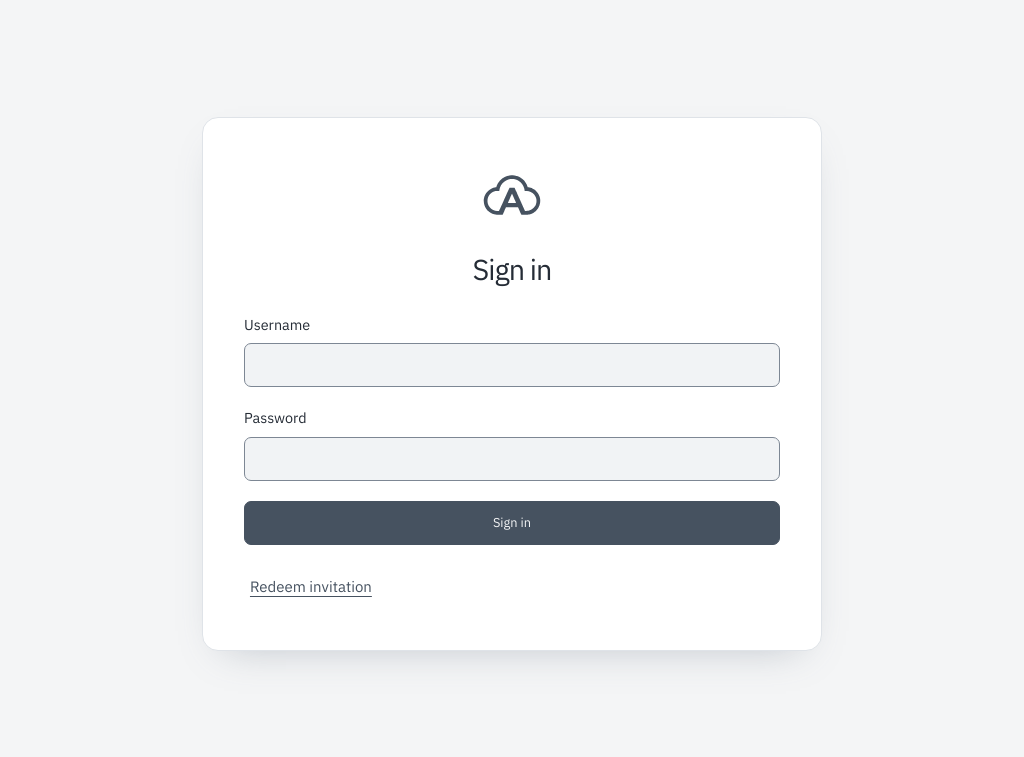
sign-in preserves the requested System route #system/vitals
This screenshot has width=1024, height=757.
Expected: the heading "Sign in" is shown, x1=473 y1=250 x2=551 y2=288
Type "ark" into the field labelled "Username" at {"x": 512, "y": 365}, box x1=244 y1=343 x2=780 y2=387
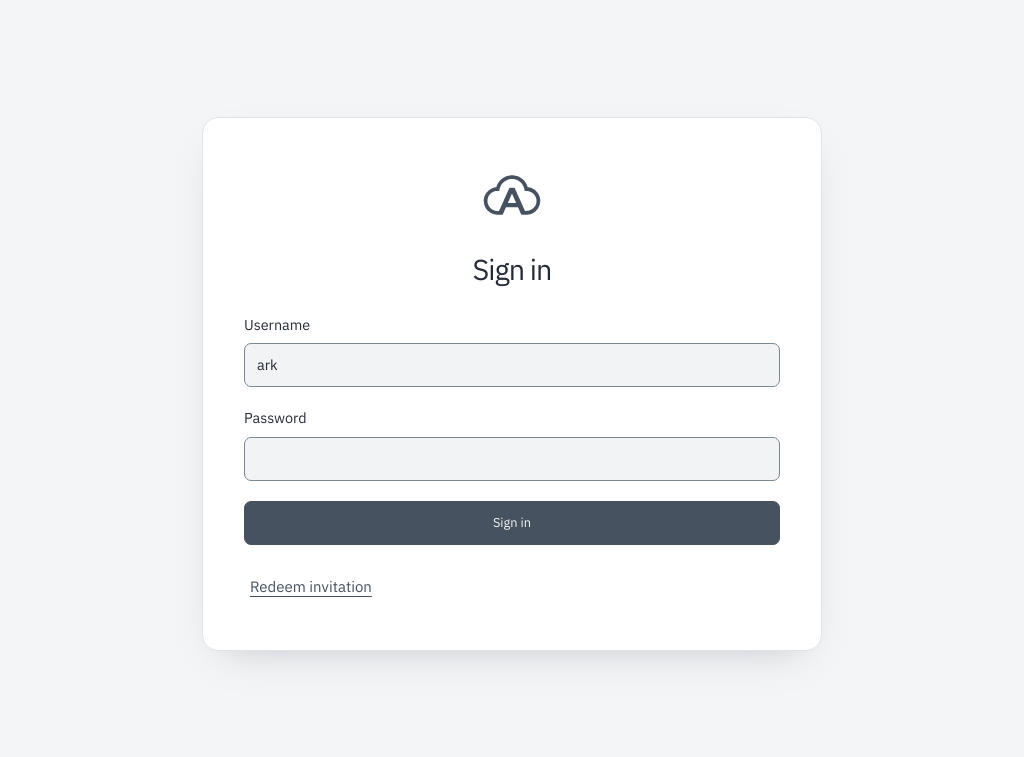
Type "test-password" into the password field labelled "Password" at {"x": 512, "y": 459}, box x1=244 y1=437 x2=780 y2=481
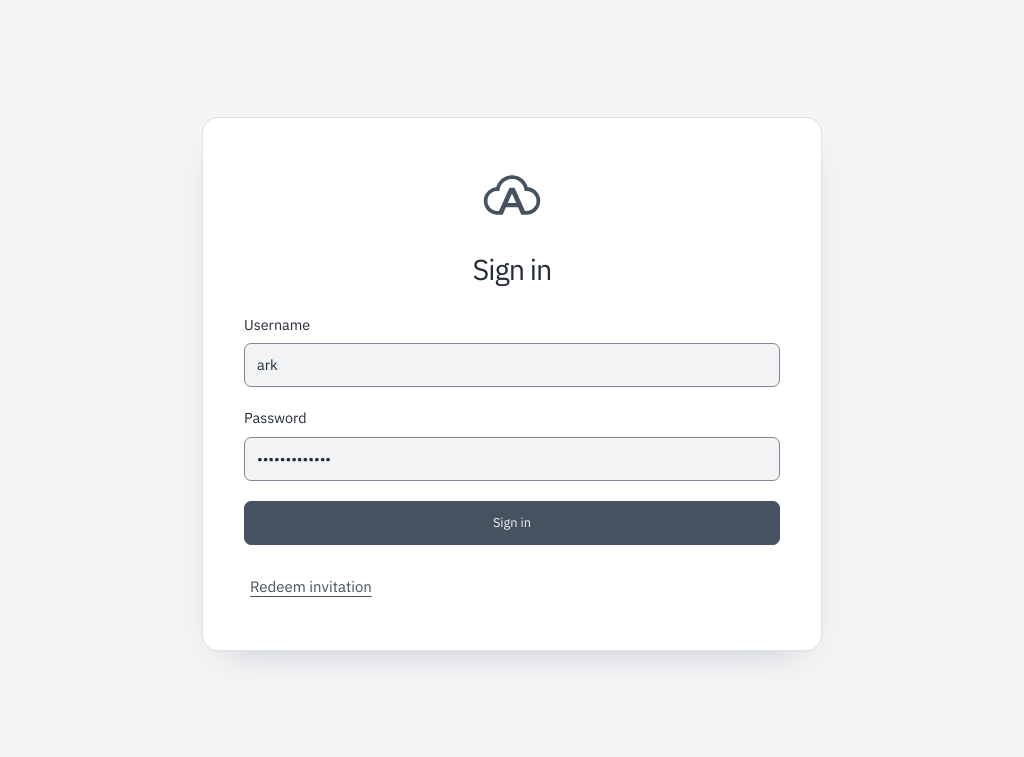
Click the button "Sign in" at {"x": 512, "y": 523}, box x1=244 y1=501 x2=780 y2=545
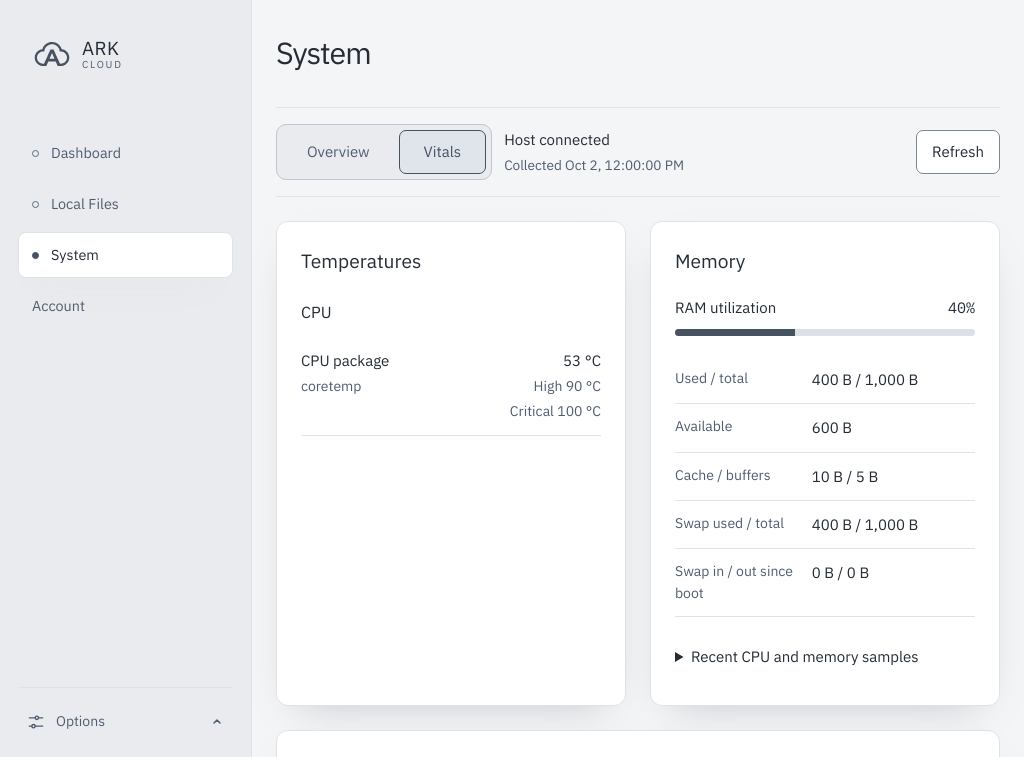
Expected: the heading "System" is shown, x1=276 y1=36 x2=371 y2=71
Expected: the heading "Temperatures" is shown, x1=301 y1=248 x2=421 y2=273
